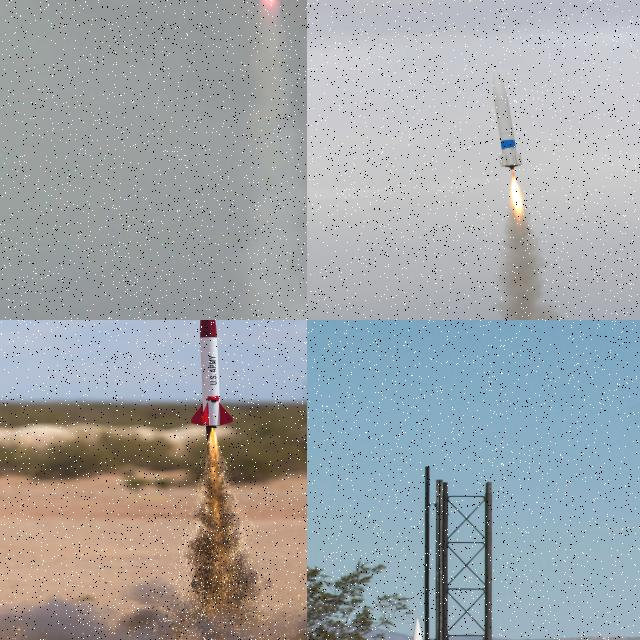Rocket: (189, 320, 235, 430), (490, 68, 524, 171)
